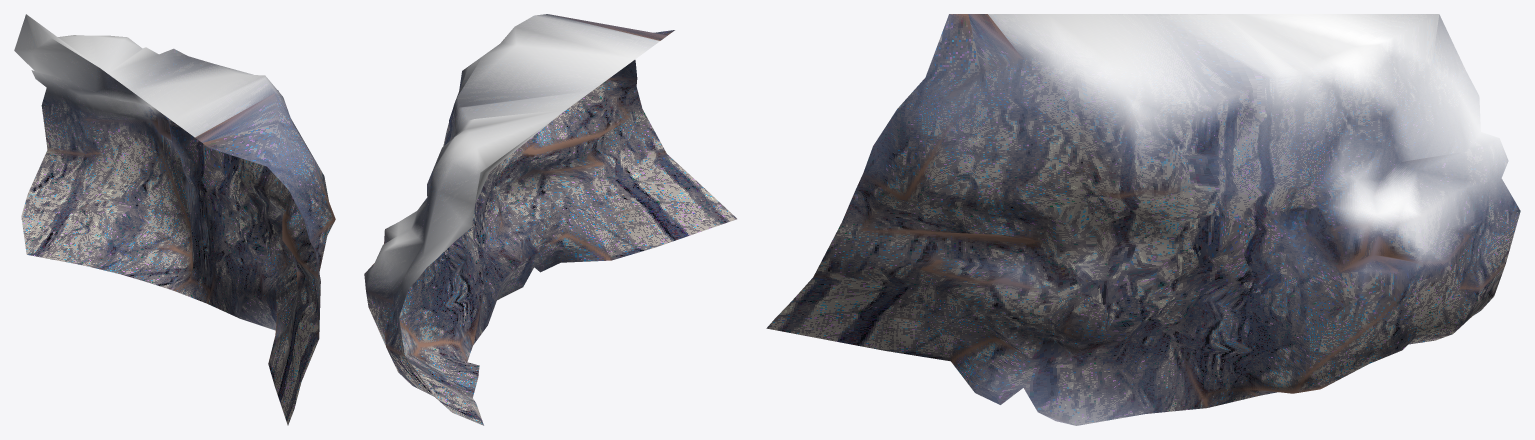
File: ykp_kallio_plane_connect.glb
3 renders of one model, left to right at view 1: azimuth 30°, elevation 25°; view 2: azimuth 150°, elevation 25°; view 3: azimuth 270°, elevation 25°, orthographic. The views are drawn at different scales.
Parts seen in each view (by area): view 1: ykp_mustavuorikallio-col; view 2: ykp_mustavuorikallio-col; view 3: ykp_mustavuorikallio-col.
Boxes of the visible parts, left/top/right/bottom form: ykp_mustavuorikallio-col: left=14, top=14, right=335, bottom=425; ykp_mustavuorikallio-col: left=364, top=14, right=736, bottom=425; ykp_mustavuorikallio-col: left=766, top=14, right=1520, bottom=425.
Size of the model in its own units: 2.64 by 4.65 by 8.88.
1 material, 1 textured.
